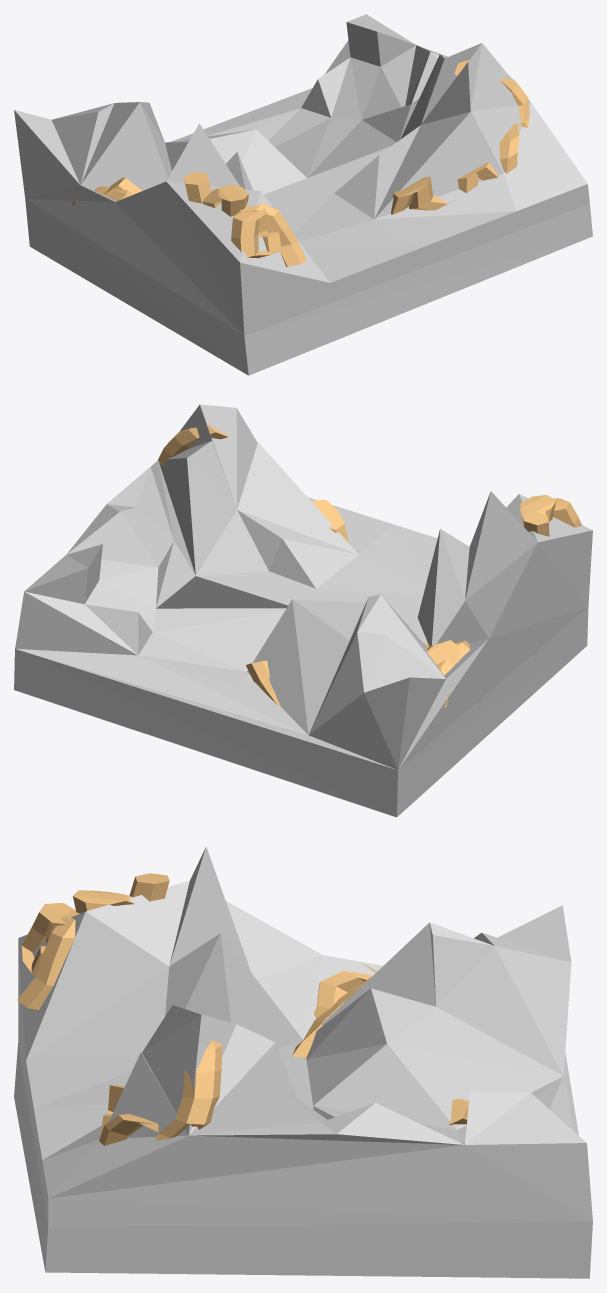
File: snow-shelf.glb
3 renders of one model, top to bottom at view 1: azimuth 30°, elevation 25°; view 2: azimuth 150°, elevation 25°; view 3: azimuth 270°, elevation 25°, orthographic. The views are drawn at different scales.
Parts seen in each view (by area): view 1: group1213442301, group1020127045, group1915387679, group897146324; view 2: group1213442301, group1020127045, group1915387679, group897146324, group1486041842; view 3: group1213442301, group1020127045, group1915387679, group897146324.
Boxes of the visible parts, box(x1,y1,x2,y2) form: group1213442301: box(14, 14, 592, 375); group1020127045: box(183, 172, 306, 266); group1915387679: box(391, 59, 529, 214); group897146324: box(71, 177, 142, 205); group1213442301: box(14, 404, 592, 817); group1020127045: box(520, 495, 582, 536); group1915387679: box(158, 425, 348, 542); group897146324: box(427, 640, 470, 707); group1486041842: box(246, 660, 280, 706); group1213442301: box(14, 846, 592, 1278); group1020127045: box(17, 873, 169, 1010); group1915387679: box(99, 1040, 222, 1145); group897146324: box(303, 964, 376, 1039).
Size of the model in its own units: 1.62 by 0.8848 by 1.54.
